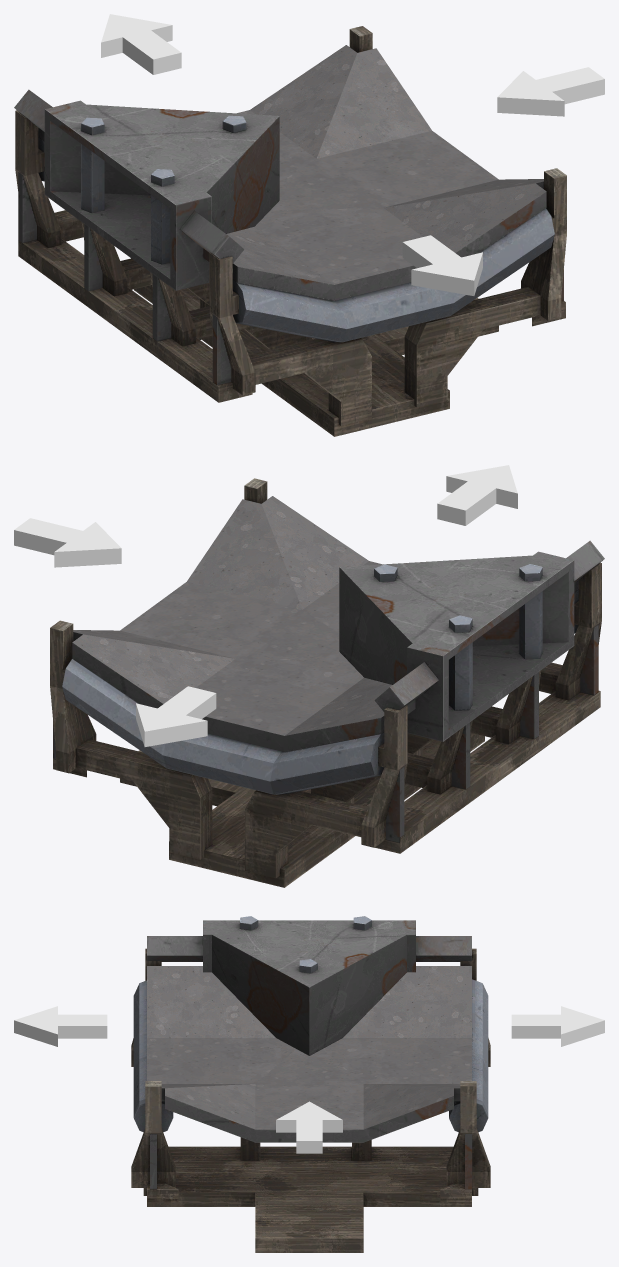
Rendered from ConveyorTSplitter.glb.
3 views of the same model, one above another, from view 1: azimuth 30°, elevation 25°; view 2: azimuth 150°, elevation 25°; view 3: azimuth 270°, elevation 25° (orthographic). The views are drawn at different scales.
Visible parts, largest first — view 1: ConveyorTSplitter, ghostarrow (2), ghostarrow, ghostarrow (1); view 2: ConveyorTSplitter, ghostarrow (2), ghostarrow (1), ghostarrow; view 3: ConveyorTSplitter, ghostarrow, ghostarrow (1), ghostarrow (2).
Boxes of the visible parts, x1=… form: ConveyorTSplitter: x1=14, y1=26, x2=566, y2=436; ghostarrow (2): x1=497, y1=67, x2=604, y2=116; ghostarrow: x1=402, y1=235, x2=482, y2=295; ghostarrow (1): x1=101, y1=14, x2=181, y2=74; ConveyorTSplitter: x1=50, y1=478, x2=604, y2=887; ghostarrow (2): x1=14, y1=518, x2=121, y2=567; ghostarrow (1): x1=136, y1=686, x2=216, y2=746; ghostarrow: x1=437, y1=465, x2=517, y2=525; ConveyorTSplitter: x1=131, y1=916, x2=490, y2=1252; ghostarrow: x1=14, y1=1006, x2=107, y2=1046; ghostarrow (1): x1=511, y1=1006, x2=604, y2=1046; ghostarrow (2): x1=276, y1=1101, x2=342, y2=1153.
Size of the model in its own units: 1.4 by 0.6725 by 1.82.
4 materials, 2 textured.
